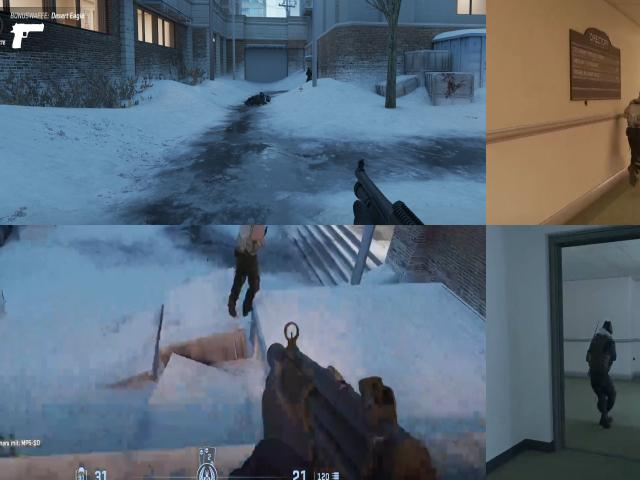CT: (584, 325, 618, 386), (306, 67, 312, 81)
CT-Head: (594, 317, 615, 340), (307, 67, 310, 71)
Dead: (243, 91, 272, 108)
T: (233, 225, 270, 278), (623, 81, 640, 141)
T-Head: (633, 86, 640, 106)
